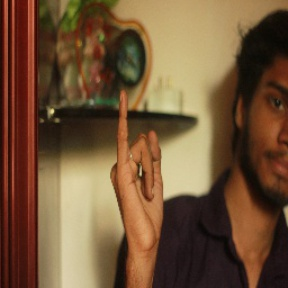I: (107, 90, 168, 249)
